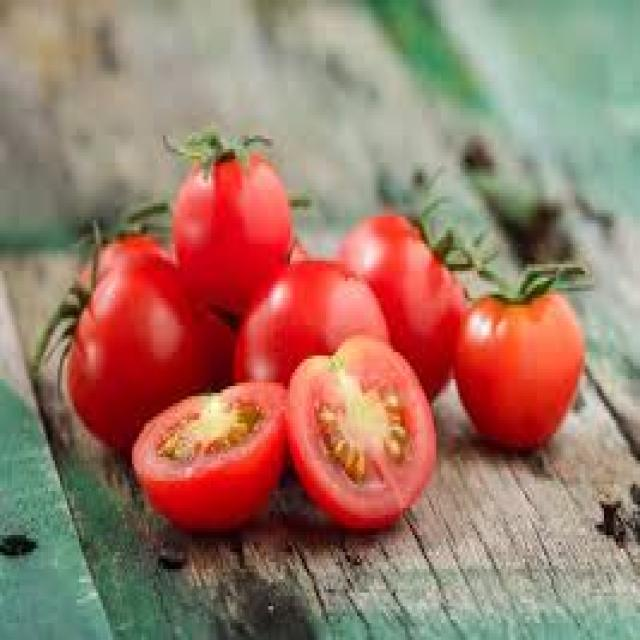food_waste: (67, 149, 582, 528)
